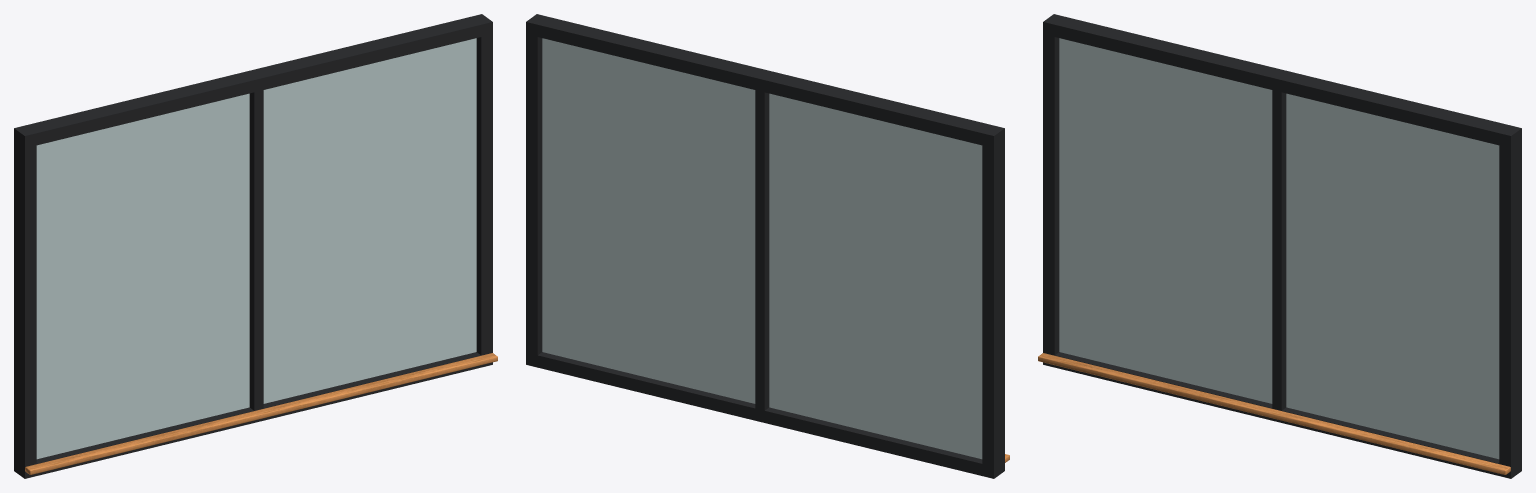
The model's file is architecture.interior-window-to-room.glb.
3 views of the same model, side by side, from view 1: azimuth 30°, elevation 25°; view 2: azimuth 150°, elevation 25°; view 3: azimuth 330°, elevation 25° (orthographic).
Parts seen in each view (by area): view 1: architecture.interior-window-to-room.001; view 2: architecture.interior-window-to-room.001; view 3: architecture.interior-window-to-room.001.
Part boxes in pixels (x1,y1,x2,y2): architecture.interior-window-to-room.001: [14, 14, 497, 478]; architecture.interior-window-to-room.001: [526, 14, 1009, 478]; architecture.interior-window-to-room.001: [1038, 14, 1521, 478].
Bounding box in the file's own units: 2 × 1.4 × 0.12.
Materials: 3 (1 with a texture image).
